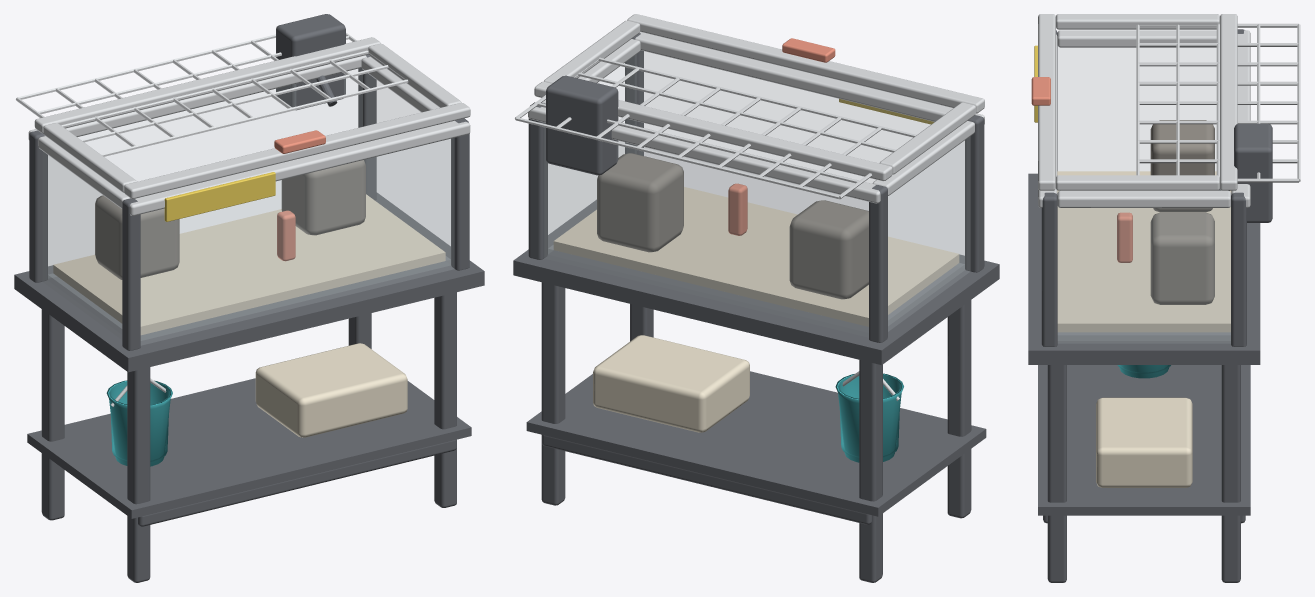
Rendered from care-tank.glb.
3 renders of one model, left to right at view 1: azimuth 30°, elevation 25°; view 2: azimuth 150°, elevation 25°; view 3: azimuth 270°, elevation 25°, orthographic. The views are drawn at different scales.
Parts seen in each view (by area): view 1: quarantine-tank-on-frame, lid/steel, lid/coral; view 2: quarantine-tank-on-frame, lid/steel, lid/coral; view 3: quarantine-tank-on-frame, lid/steel, lid/coral.
Part boxes in pixels (left/top/right/bottom): quarantine-tank-on-frame: left=14, top=14, right=484, bottom=582; lid/steel: left=16, top=33, right=470, bottom=198; lid/coral: left=274, top=130, right=325, bottom=153; quarantine-tank-on-frame: left=513, top=32, right=999, bottom=582; lid/steel: left=515, top=14, right=984, bottom=199; lid/coral: left=782, top=38, right=835, bottom=62; quarantine-tank-on-frame: left=1028, top=29, right=1272, bottom=582; lid/steel: left=1038, top=14, right=1300, bottom=190; lid/coral: left=1031, top=77, right=1050, bottom=105.
Bounding box in the file's own units: 1.3 × 1.46 × 0.8452.
